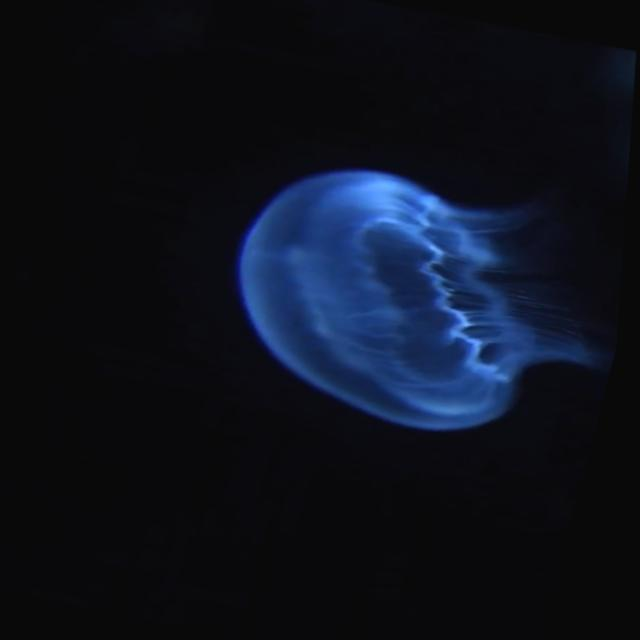Moon-jellyfish: (232, 111, 626, 434)
